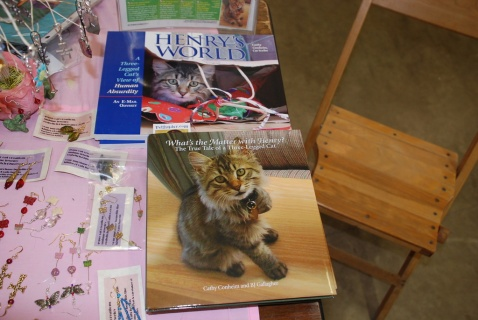Cat: (175, 131, 288, 281), (143, 57, 215, 106)
